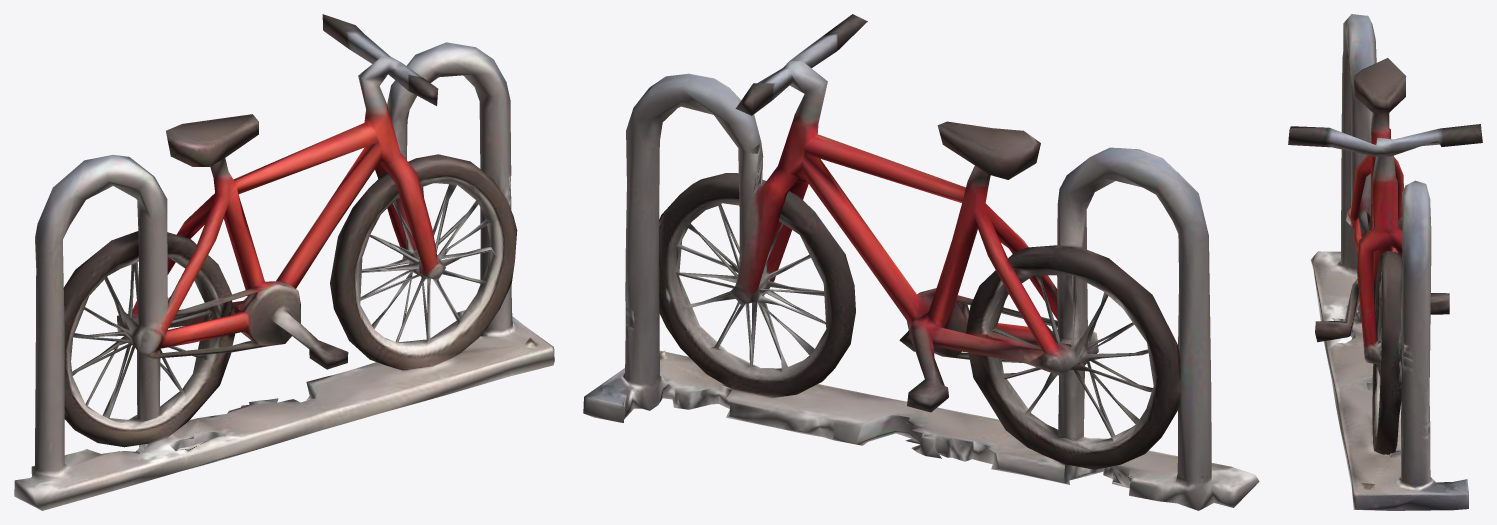
Rendered from bikerack.glb.
3 views of the same model, side by side, from view 1: azimuth 30°, elevation 25°; view 2: azimuth 150°, elevation 25°; view 3: azimuth 270°, elevation 25° (orthographic). The views are drawn at different scales.
Visible parts, largest first — view 1: tripo_node_01a21d84-807c-7973-aa70-091cb4c865da; view 2: tripo_node_01a21d84-807c-7973-aa70-091cb4c865da; view 3: tripo_node_01a21d84-807c-7973-aa70-091cb4c865da.
Part boxes in pixels (left/top/right/bottom): tripo_node_01a21d84-807c-7973-aa70-091cb4c865da: left=14, top=14, right=554, bottom=510; tripo_node_01a21d84-807c-7973-aa70-091cb4c865da: left=583, top=14, right=1259, bottom=510; tripo_node_01a21d84-807c-7973-aa70-091cb4c865da: left=1288, top=14, right=1482, bottom=510.
Bounding box in the file's own units: 1.8 × 1.09 × 0.6076.
Materials: 1 (1 with a texture image).
